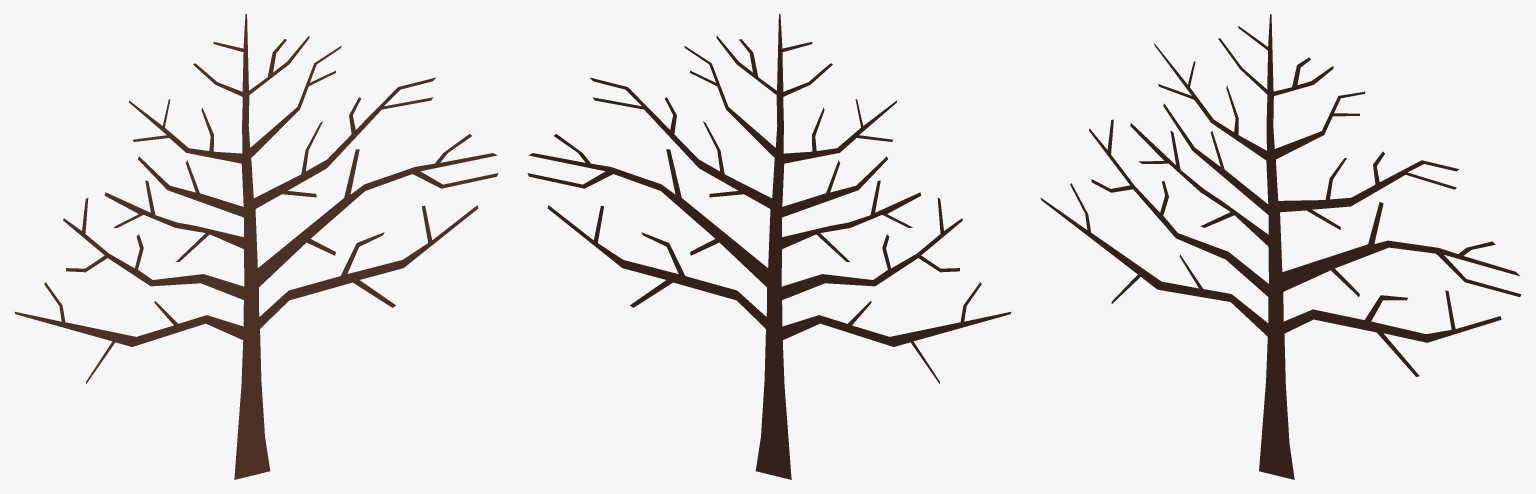
Rendered from OakTree_03.fbx.
The picture shows the model from 3 angles, left to right: view 1: azimuth 30°, elevation 25°; view 2: azimuth 150°, elevation 25°; view 3: azimuth 330°, elevation 25°; orthographic projection.
Parts seen in each view (by area): view 1: nurbsToPoly1; view 2: nurbsToPoly1; view 3: nurbsToPoly1.
Part boxes in pixels (left/top/right/bottom): nurbsToPoly1: left=14, top=14, right=498, bottom=479; nurbsToPoly1: left=527, top=14, right=1011, bottom=479; nurbsToPoly1: left=1040, top=14, right=1521, bottom=479.
Size of the model in its own units: 16.14 by 14.75 by 0.
1 material, 1 textured.
